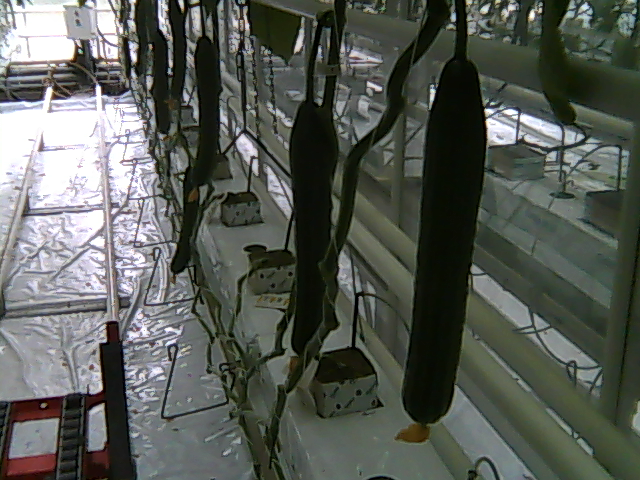concombre: (394, 41, 488, 447), (283, 90, 345, 363)
